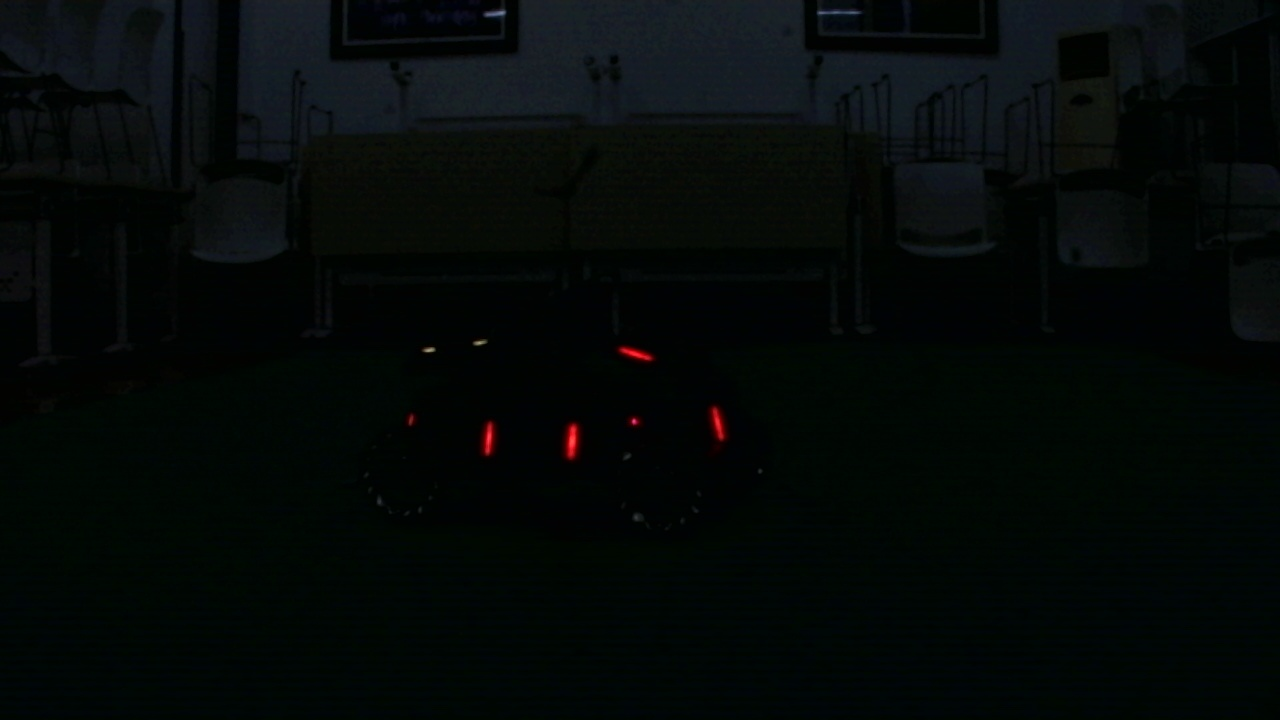lamp: (711, 408, 728, 445), (560, 427, 578, 461), (484, 420, 498, 459)
pair1: (481, 421, 579, 460)
